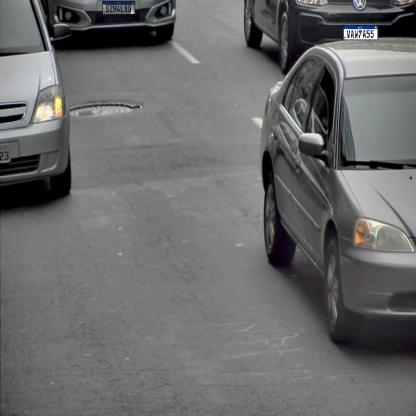PlacaM: (343, 25, 378, 40), (102, 0, 136, 14)
